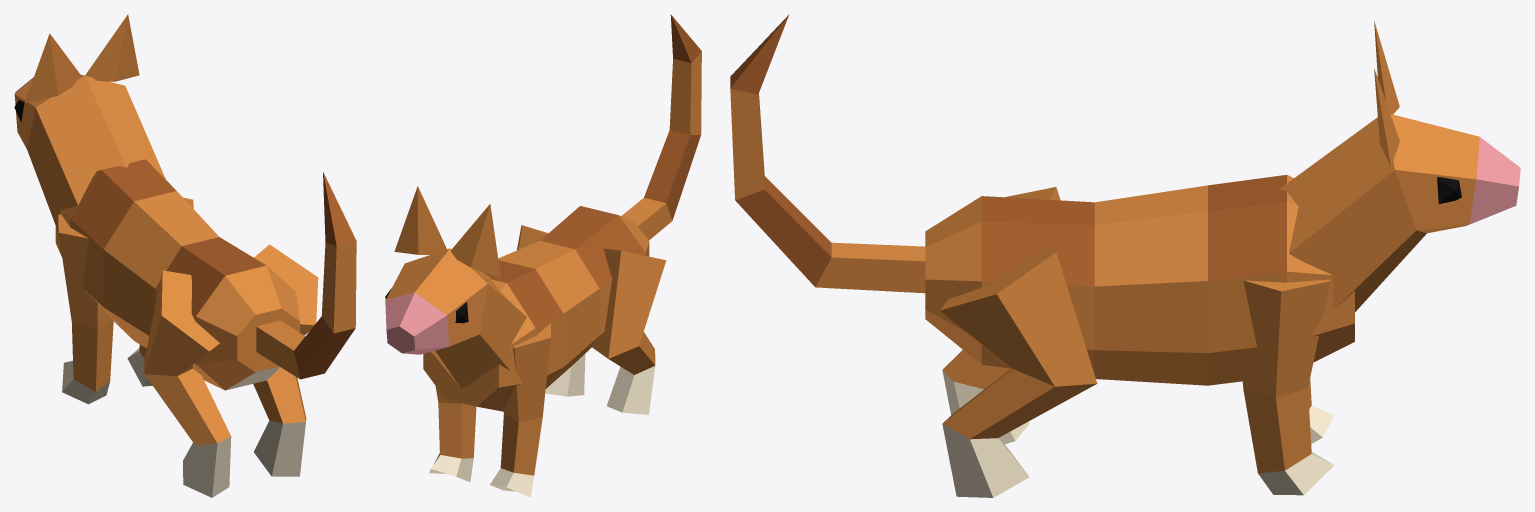
The model's file is cat.glb.
The picture shows the model from 3 angles, left to right: view 1: azimuth 30°, elevation 25°; view 2: azimuth 150°, elevation 25°; view 3: azimuth 270°, elevation 25°; orthographic projection. The views are drawn at different scales.
Parts seen in each view (by area): view 1: Body, Head, Leg_BL, Tail, Leg_BR, Leg_FL, Ear_L, Ear_R, Leg_FR; view 2: Body, Head, Leg_BL, Tail, Leg_FL, Leg_FR, Ear_L, Ear_R, Leg_BR; view 3: Body, Head, Leg_BR, Leg_FR, Tail, Leg_BL, Ear_R, Ear_L.
Boxes of the visible parts, bbox=[...] form: Body: bbox=[55, 159, 299, 390]; Head: bbox=[14, 74, 165, 232]; Leg_BL: bbox=[143, 270, 231, 497]; Tail: bbox=[256, 172, 356, 379]; Leg_BR: bbox=[253, 244, 318, 476]; Leg_FL: bbox=[58, 214, 113, 404]; Ear_L: bbox=[24, 33, 81, 103]; Ear_R: bbox=[85, 14, 139, 81]; Leg_FR: bbox=[127, 197, 193, 386]; Body: bbox=[423, 206, 649, 411]; Head: bbox=[385, 248, 526, 388]; Leg_BL: bbox=[591, 248, 666, 414]; Tail: bbox=[621, 14, 701, 240]; Leg_FL: bbox=[490, 323, 550, 497]; Leg_FR: bbox=[429, 386, 476, 481]; Ear_L: bbox=[450, 204, 500, 277]; Ear_R: bbox=[394, 186, 447, 254]; Leg_BR: bbox=[517, 225, 585, 396]; Body: bbox=[925, 174, 1354, 385]; Head: bbox=[1279, 114, 1520, 311]; Leg_BR: bbox=[940, 246, 1097, 497]; Leg_FR: bbox=[1240, 279, 1334, 495]; Tail: bbox=[730, 14, 925, 293]; Leg_BL: bbox=[942, 187, 1060, 444]; Ear_R: bbox=[1374, 68, 1399, 166]; Ear_L: bbox=[1374, 20, 1399, 114].
Bounding box in the file's own units: 0.1997 × 0.445 × 0.6991.
